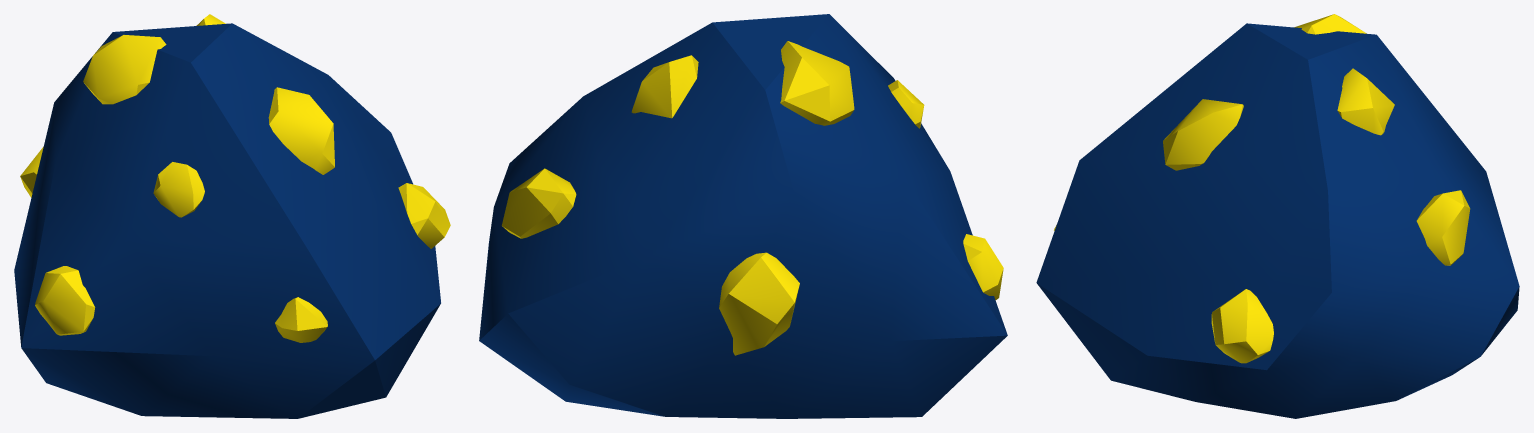
File: Gold.fbx
3 views of the same model, side by side, from view 1: azimuth 30°, elevation 25°; view 2: azimuth 150°, elevation 25°; view 3: azimuth 270°, elevation 25° (orthographic). The views are drawn at different scales.
Parts seen in each view (by area): view 1: Gold; view 2: Gold; view 3: Gold.
Boxes of the visible parts, x1=… form: Gold: x1=14, y1=14, x2=450, y2=418; Gold: x1=479, y1=14, x2=1007, y2=418; Gold: x1=1036, y1=14, x2=1519, y2=418.
Bounding box in the file's own units: 101 × 74.76 × 106.
